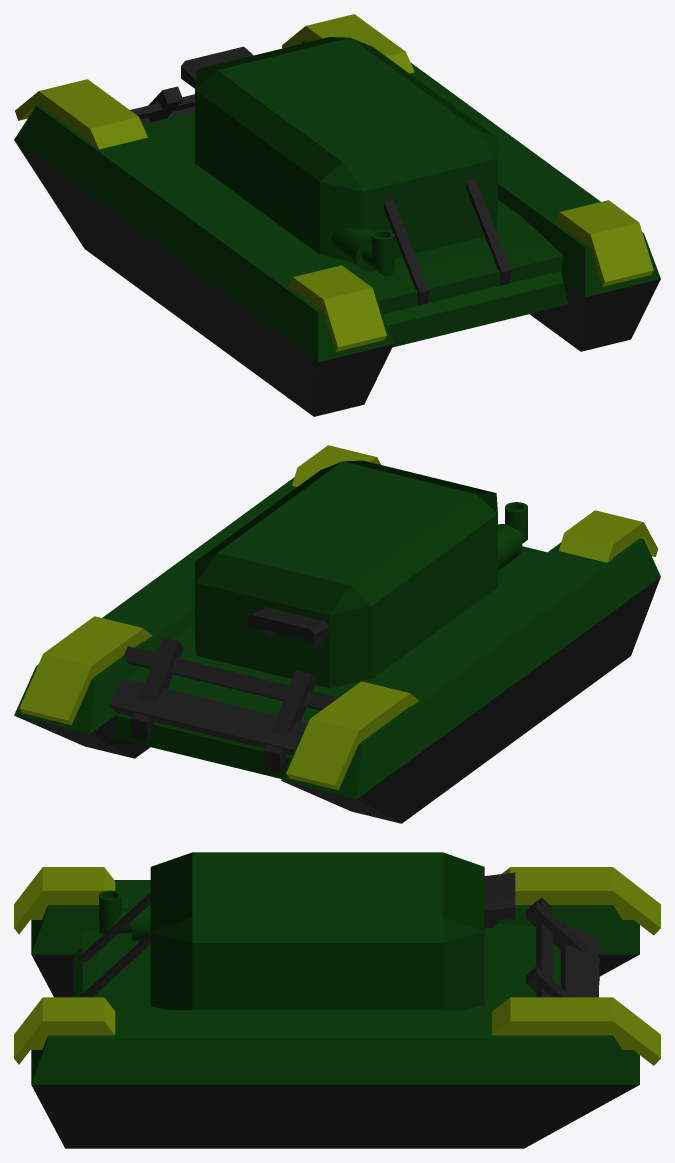
The model's file is Tank.obj.
The picture shows the model from 3 angles, top to bottom: view 1: azimuth 30°, elevation 25°; view 2: azimuth 150°, elevation 25°; view 3: azimuth 270°, elevation 25°; orthographic projection.
Size of the model in its own units: 1.54 by 0.8 by 2.52.
